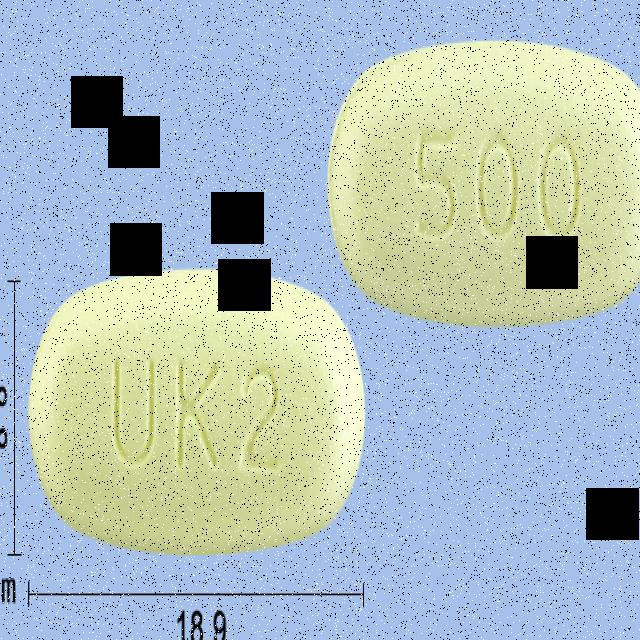Clazin: (25, 265, 368, 559), (327, 38, 640, 325)
